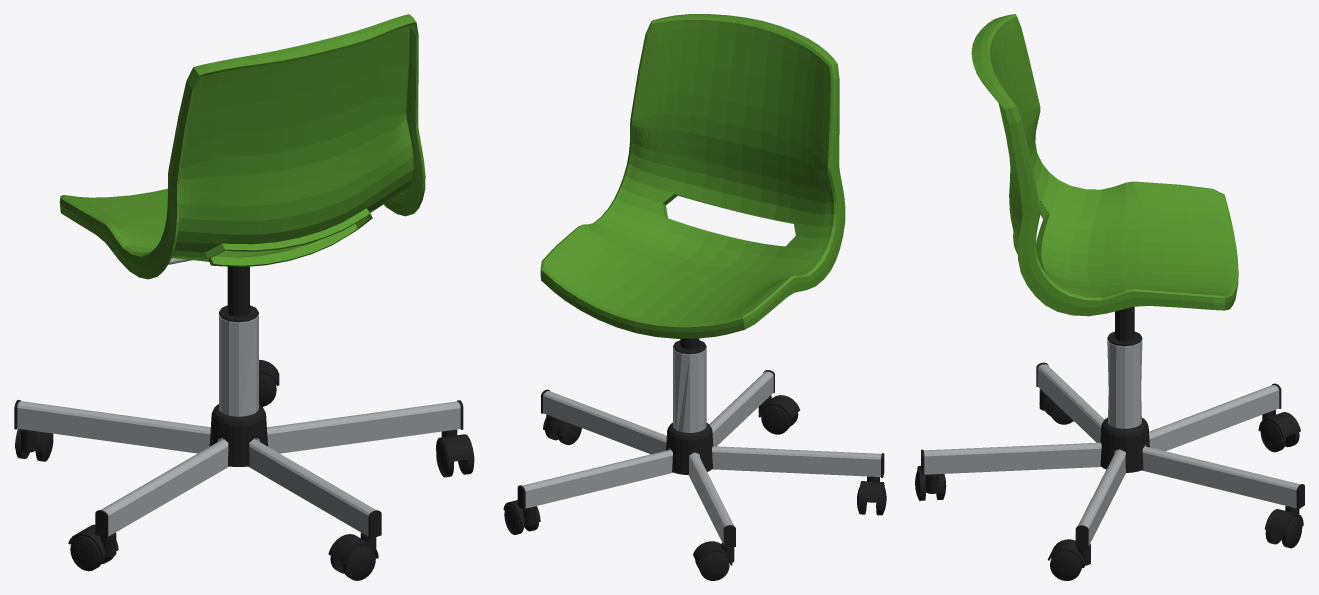
3 views of the same model, side by side, from view 1: azimuth 30°, elevation 25°; view 2: azimuth 150°, elevation 25°; view 3: azimuth 270°, elevation 25° (orthographic). The views are drawn at different scales.
Visible parts, largest first — view 1: Mesh2 Group2 SNILLE_IKEA1 Model, Mesh8 Group6 SNILLE_IKEA1 Model, Mesh7 Group5 SNILLE_IKEA1 Model, Mesh1 Group1 SNILLE_IKEA1 Model, Mesh3 Group3 SNILLE_IKEA1 Model, Mesh14 ROULETTE2 SNILLE_IKEA1 Model, Mesh20 ROULETTE4 SNILLE_IKEA1 Model, Mesh15 ROULETTE3 SNILLE_IKEA1 Model, Mesh12 ROULETTE2 SNILLE_IKEA1 Model, Mesh18 ROULETTE4 SNILLE_IKEA1 Model; view 2: Mesh2 Group2 SNILLE_IKEA1 Model, Mesh8 Group6 SNILLE_IKEA1 Model, Mesh7 Group5 SNILLE_IKEA1 Model, Mesh1 Group1 SNILLE_IKEA1 Model, Mesh11 ROULETTE1 SNILLE_IKEA1 Model, Mesh13 ROULETTE2 SNILLE_IKEA1 Model, Mesh18 ROULETTE4 SNILLE_IKEA1 Model, Mesh9 ROULETTE1 SNILLE_IKEA1 Model, Mesh12 ROULETTE2 SNILLE_IKEA1 Model; view 3: Mesh2 Group2 SNILLE_IKEA1 Model, Mesh8 Group6 SNILLE_IKEA1 Model, Mesh7 Group5 SNILLE_IKEA1 Model, Mesh1 Group1 SNILLE_IKEA1 Model, Mesh3 Group3 SNILLE_IKEA1 Model, Mesh17 ROULETTE3 SNILLE_IKEA1 Model, Mesh21 ROULETTE5 SNILLE_IKEA1 Model, Mesh9 ROULETTE1 SNILLE_IKEA1 Model, Mesh10 ROULETTE1 SNILLE_IKEA1 Model, Mesh15 ROULETTE3 SNILLE_IKEA1 Model.
Boxes of the visible parts, box(x1,y1,x2,y2) form: Mesh2 Group2 SNILLE_IKEA1 Model: box(59, 14, 425, 279); Mesh8 Group6 SNILLE_IKEA1 Model: box(14, 400, 463, 538); Mesh7 Group5 SNILLE_IKEA1 Model: box(219, 314, 258, 416); Mesh1 Group1 SNILLE_IKEA1 Model: box(209, 404, 267, 466); Mesh3 Group3 SNILLE_IKEA1 Model: box(219, 266, 258, 322); Mesh14 ROULETTE2 SNILLE_IKEA1 Model: box(342, 545, 375, 580); Mesh20 ROULETTE4 SNILLE_IKEA1 Model: box(70, 535, 102, 571); Mesh15 ROULETTE3 SNILLE_IKEA1 Model: box(436, 429, 474, 462); Mesh12 ROULETTE2 SNILLE_IKEA1 Model: box(328, 532, 378, 563); Mesh18 ROULETTE4 SNILLE_IKEA1 Model: box(68, 524, 118, 558); Mesh2 Group2 SNILLE_IKEA1 Model: box(540, 14, 845, 338); Mesh8 Group6 SNILLE_IKEA1 Model: box(517, 370, 884, 547); Mesh7 Group5 SNILLE_IKEA1 Model: box(673, 347, 706, 432); Mesh1 Group1 SNILLE_IKEA1 Model: box(666, 422, 713, 474); Mesh11 ROULETTE1 SNILLE_IKEA1 Model: box(698, 552, 729, 580); Mesh13 ROULETTE2 SNILLE_IKEA1 Model: box(761, 405, 790, 434); Mesh18 ROULETTE4 SNILLE_IKEA1 Model: box(858, 476, 884, 502); Mesh9 ROULETTE1 SNILLE_IKEA1 Model: box(693, 541, 734, 565); Mesh12 ROULETTE2 SNILLE_IKEA1 Model: box(758, 395, 800, 419); Mesh2 Group2 SNILLE_IKEA1 Model: box(971, 14, 1238, 316); Mesh8 Group6 SNILLE_IKEA1 Model: box(921, 362, 1304, 549); Mesh7 Group5 SNILLE_IKEA1 Model: box(1107, 339, 1142, 428); Mesh1 Group1 SNILLE_IKEA1 Model: box(1100, 417, 1149, 472); Mesh3 Group3 SNILLE_IKEA1 Model: box(1107, 306, 1142, 346); Mesh17 ROULETTE3 SNILLE_IKEA1 Model: box(1050, 551, 1081, 580); Mesh21 ROULETTE5 SNILLE_IKEA1 Model: box(1264, 506, 1303, 534); Mesh9 ROULETTE1 SNILLE_IKEA1 Model: box(1258, 410, 1300, 437); Mesh10 ROULETTE1 SNILLE_IKEA1 Model: box(1260, 421, 1285, 452); Mesh15 ROULETTE3 SNILLE_IKEA1 Model: box(1048, 539, 1090, 567).
Size of the model in its own units: 0.5974 by 0.7309 by 0.577.
